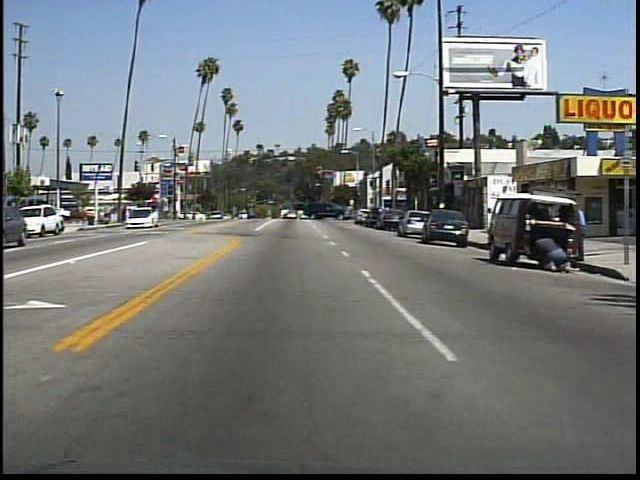person: (529, 230, 570, 276)
